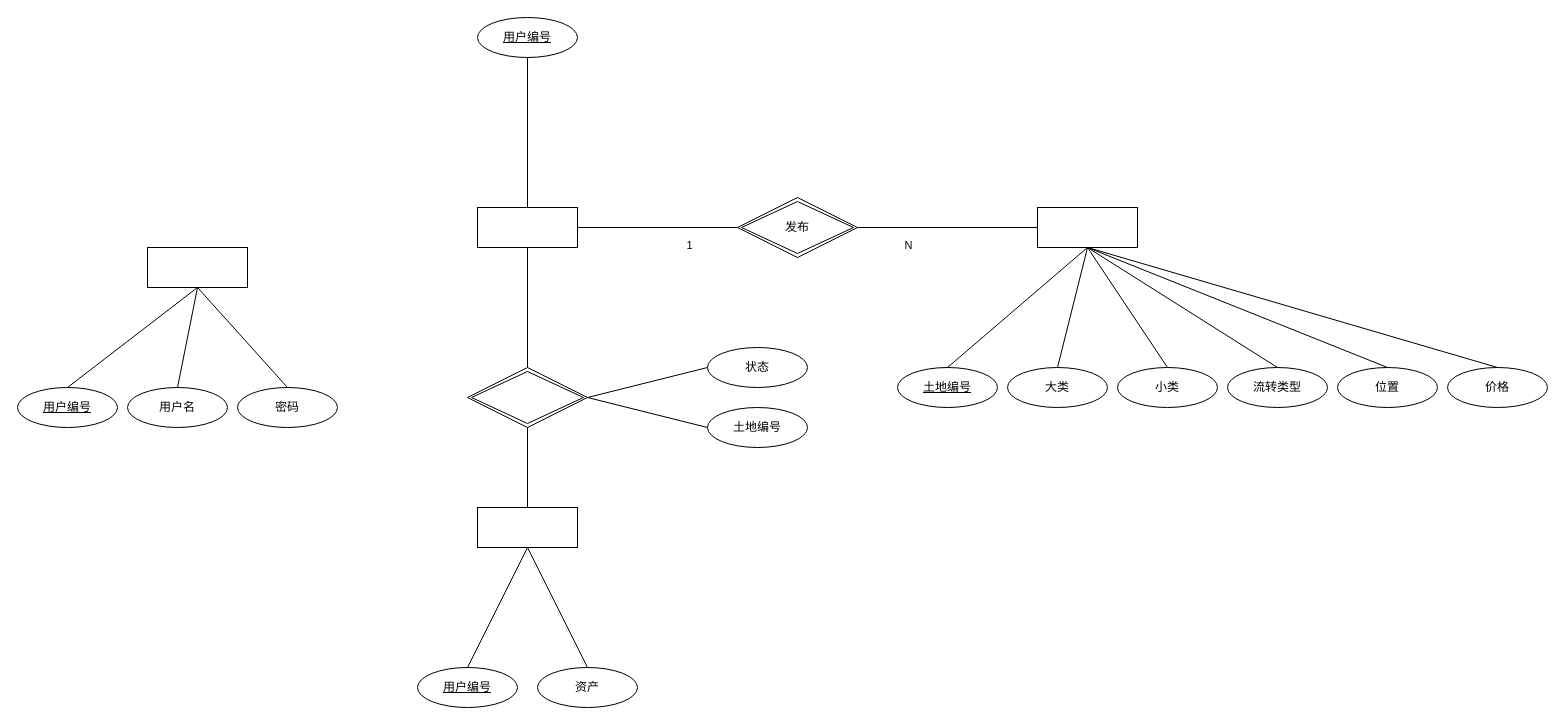
This 1565x725 diagram has some shape labels left out. Each missing label, with the box of its shape:
买家: (476, 506, 578, 548)
供应者: (476, 206, 578, 248)
土地: (1036, 206, 1138, 248)
用户: (146, 246, 248, 288)
购买申请: (466, 366, 588, 428)
